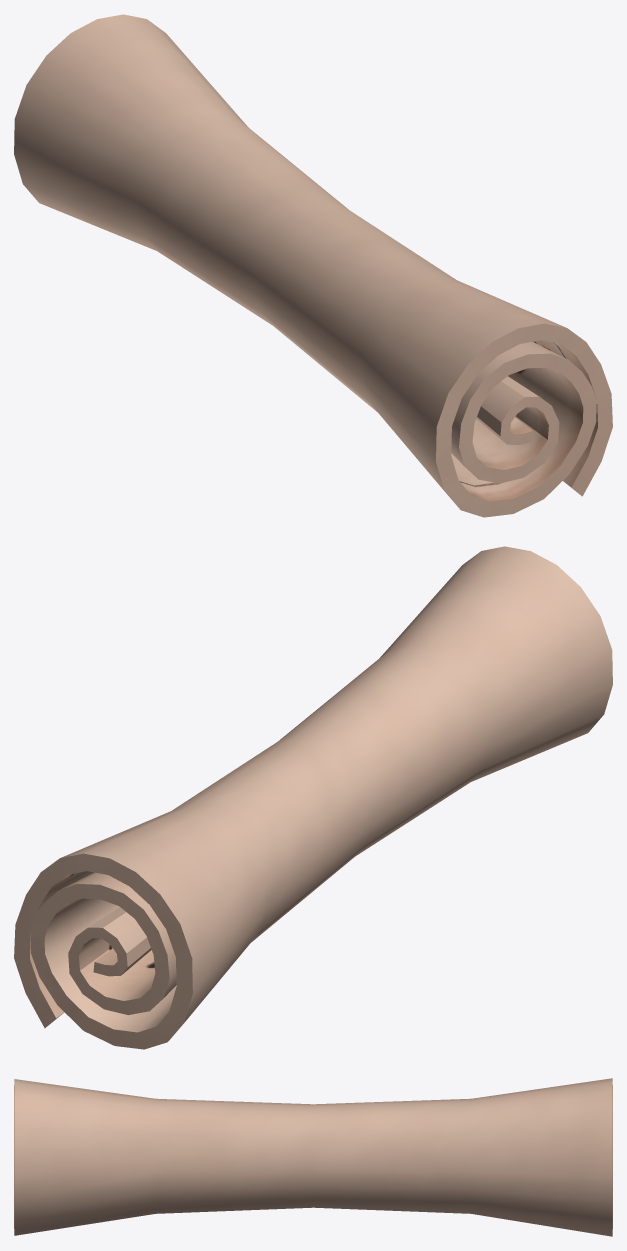
The model's file is SM_Scroll_01.fbx.
The picture shows the model from 3 angles, top to bottom: view 1: azimuth 30°, elevation 25°; view 2: azimuth 150°, elevation 25°; view 3: azimuth 270°, elevation 25°; orthographic projection. The views are drawn at different scales.
Parts seen in each view (by area): view 1: SM_Scroll_01; view 2: SM_Scroll_01; view 3: SM_Scroll_01.
Part boxes in pixels (left/top/right/bottom): SM_Scroll_01: left=14, top=14, right=612, bottom=517; SM_Scroll_01: left=14, top=546, right=612, bottom=1049; SM_Scroll_01: left=14, top=1078, right=612, bottom=1236.
Size of the model in its own units: 4.75 by 4.73 by 19.39.
